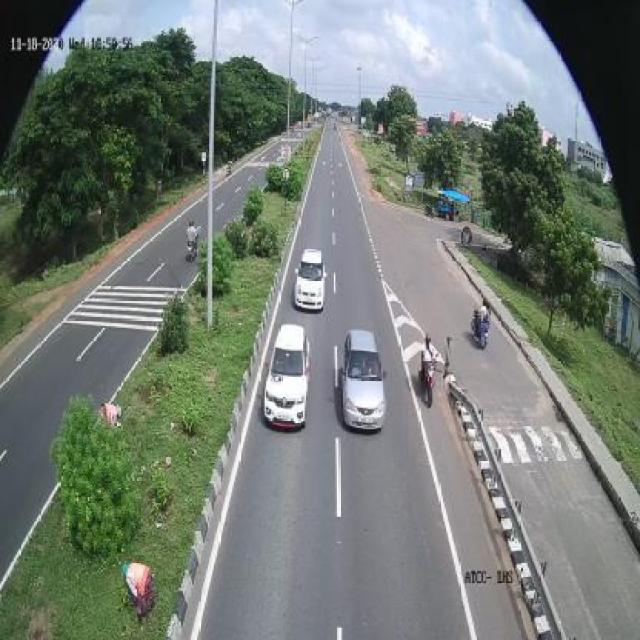car: (264, 320, 314, 434), (340, 324, 388, 436), (295, 244, 328, 314)
